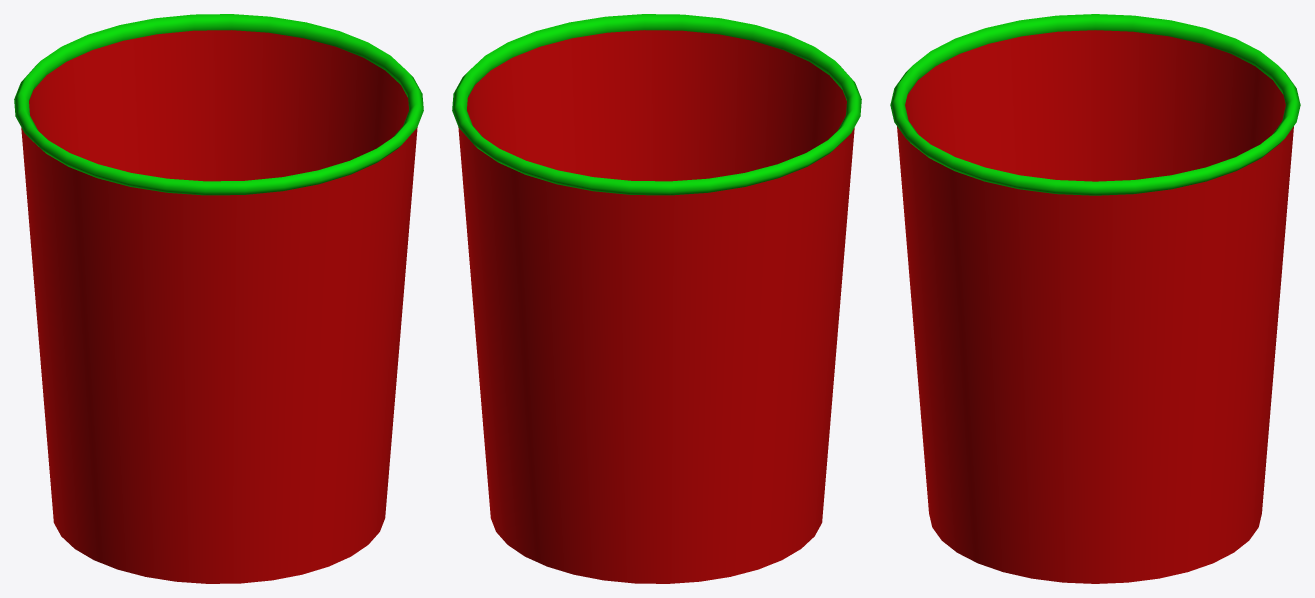
File: 6trashcan.fbx
The picture shows the model from 3 angles, left to right: view 1: azimuth 30°, elevation 25°; view 2: azimuth 150°, elevation 25°; view 3: azimuth 270°, elevation 25°; orthographic projection.
Visible parts, largest first — view 1: Cylinder.002; view 2: Cylinder.002; view 3: Cylinder.002.
Part boxes in pixels (x1,y1,x2,y2): Cylinder.002: (14,14,423,583); Cylinder.002: (452,14,861,583); Cylinder.002: (890,14,1300,583).
Bounding box in the file's own units: 185 × 211 × 185.
